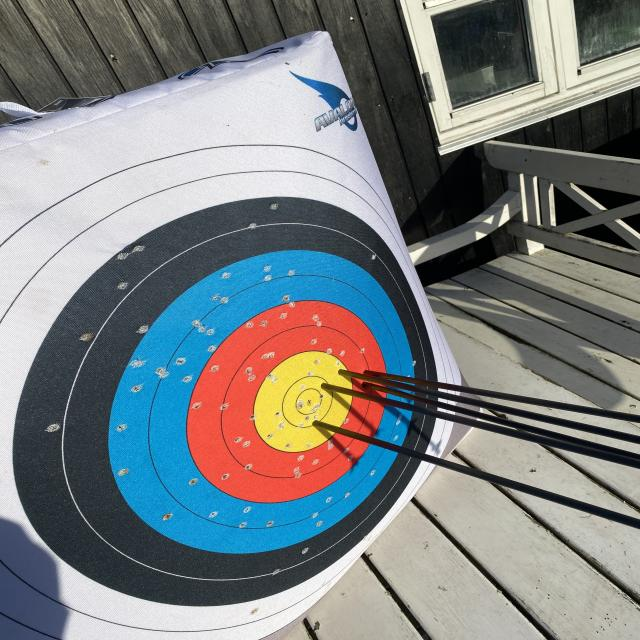Arrow_Red: (351, 380, 398, 400), (349, 359, 388, 379)
Arrow_Yellow: (302, 402, 336, 440), (310, 367, 344, 402), (322, 351, 358, 383)
